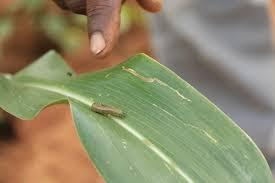fallarmy_worm: (89, 98, 128, 122)
